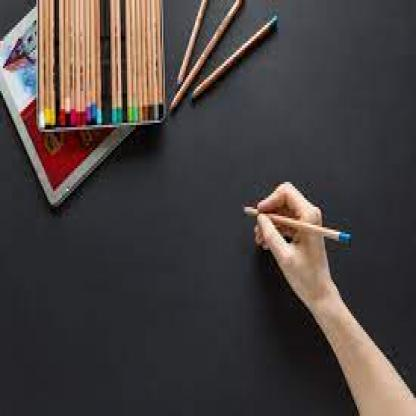pencil: (187, 12, 280, 100), (242, 206, 354, 253), (176, 1, 209, 90), (115, 1, 124, 125), (58, 0, 66, 126), (126, 0, 134, 124), (152, 0, 160, 122), (156, 0, 164, 121), (78, 0, 85, 126), (147, 0, 154, 125), (138, 0, 145, 123), (130, 0, 137, 120), (39, 0, 45, 131), (97, 0, 103, 126), (142, 0, 148, 126), (71, 0, 77, 125), (111, 0, 117, 124), (86, 0, 92, 122), (92, 0, 98, 121), (50, 2, 55, 125), (66, 0, 71, 115), (46, 0, 49, 128)
